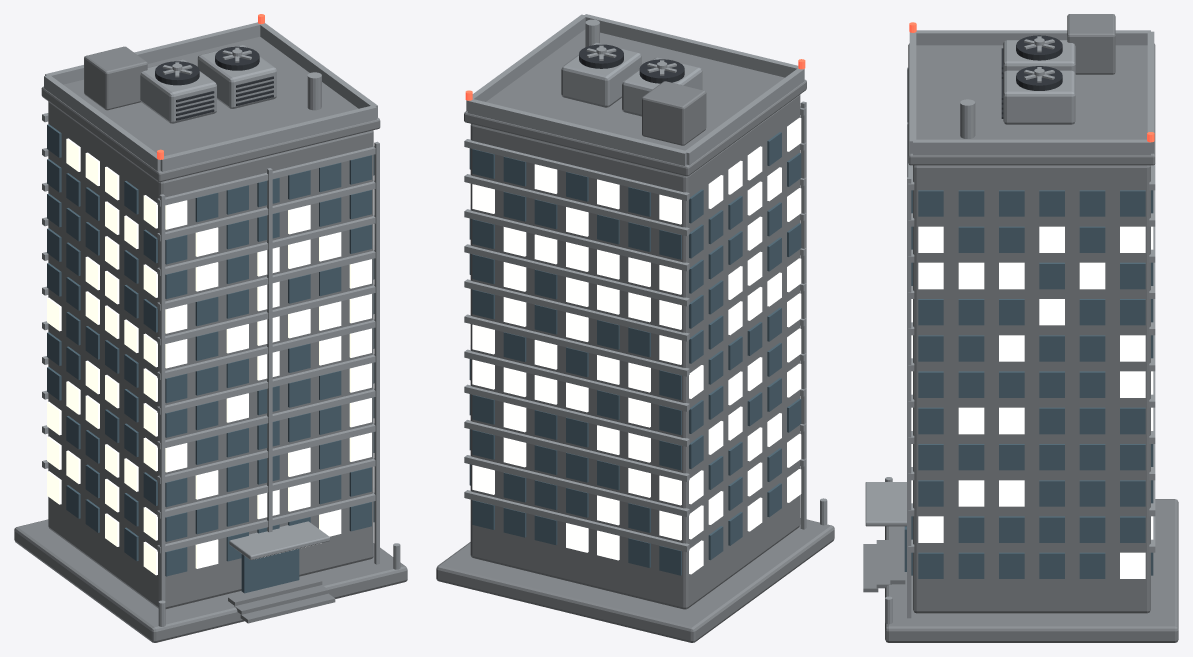
File: tower.glb
3 renders of one model, left to right at view 1: azimuth 30°, elevation 25°; view 2: azimuth 150°, elevation 25°; view 3: azimuth 270°, elevation 25°, orthographic. The views are drawn at different scales.
Visible parts, largest first — view 1: ZDC_tower; view 2: ZDC_tower; view 3: ZDC_tower.
Part boxes in pixels (box(x1,y1,x2,y2)): ZDC_tower: box(14, 14, 407, 642); ZDC_tower: box(436, 14, 834, 642); ZDC_tower: box(863, 14, 1178, 642).
Bounding box in the file's own units: 2.05 × 3.84 × 2.1.
